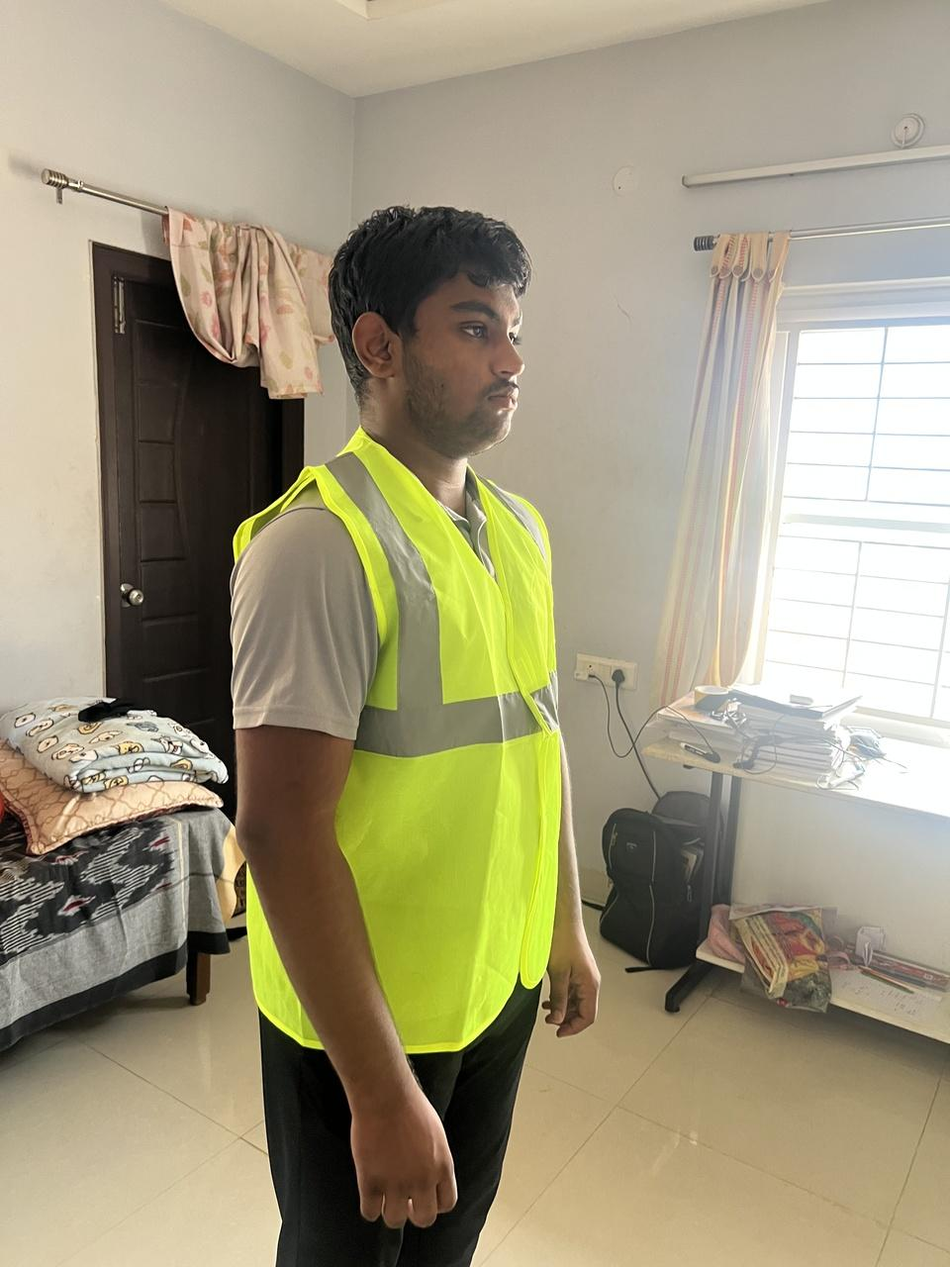No_Helmet: (327, 205, 532, 399)
Person: (221, 205, 598, 1267)
Vest: (225, 426, 563, 1058)
